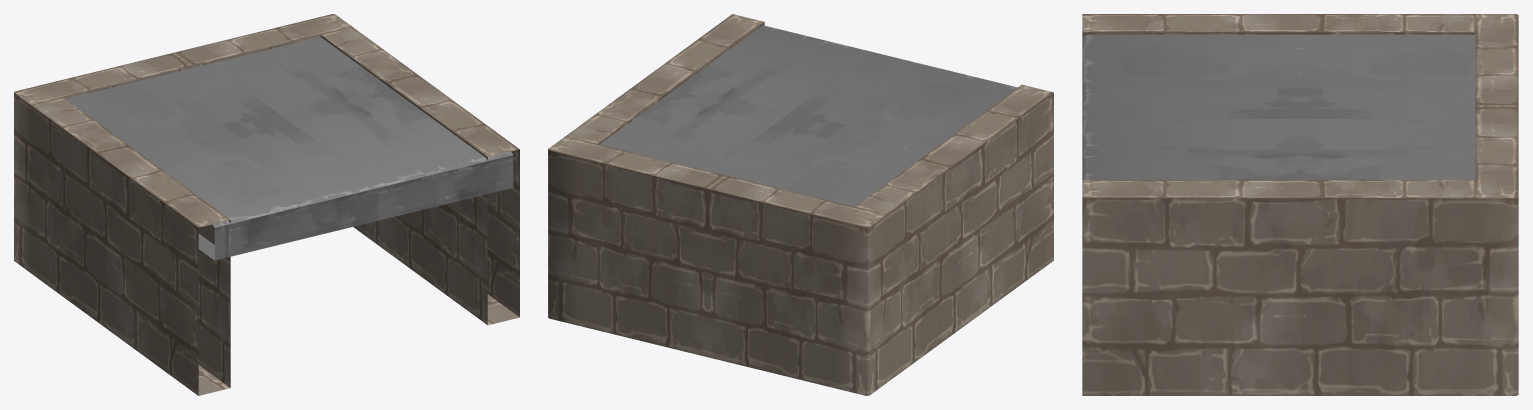
The model's file is Stairs_Exterior_PlatformU.gltf.
The picture shows the model from 3 angles, left to right: view 1: azimuth 30°, elevation 25°; view 2: azimuth 150°, elevation 25°; view 3: azimuth 270°, elevation 25°; orthographic projection. The views are drawn at different scales.
Visible parts, largest first — view 1: Stairs_Exterior_PlatformU; view 2: Stairs_Exterior_PlatformU; view 3: Stairs_Exterior_PlatformU.
Part boxes in pixels (x1,y1,x2,y2): Stairs_Exterior_PlatformU: (14,14,519,395); Stairs_Exterior_PlatformU: (548,14,1053,395); Stairs_Exterior_PlatformU: (1082,14,1518,395).
Size of the model in its own units: 2 by 1 by 2.
2 materials, 2 textured.
